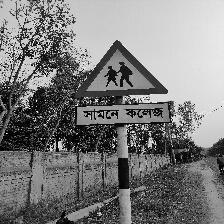College-in-front: (77, 36, 170, 137)
